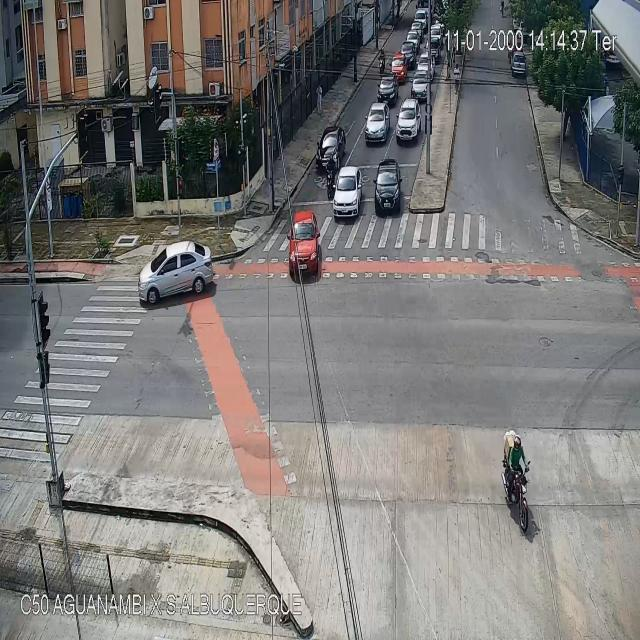Car: (139, 242, 214, 304), (286, 210, 320, 282), (375, 158, 404, 216), (332, 166, 363, 218), (315, 127, 344, 172), (396, 98, 420, 142), (365, 101, 387, 145), (377, 75, 395, 104), (416, 53, 434, 79), (399, 42, 415, 68), (425, 37, 441, 63), (412, 70, 426, 98), (512, 52, 526, 77), (413, 10, 428, 32), (392, 52, 404, 78), (406, 30, 419, 50), (430, 24, 442, 45), (410, 22, 422, 41)
Motorcycle: (501, 431, 530, 536), (326, 153, 337, 197), (378, 49, 385, 77)
